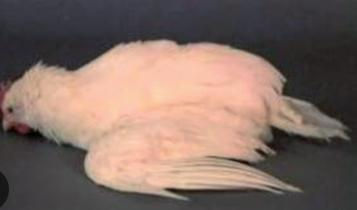AbNormal: (2, 38, 351, 200)
